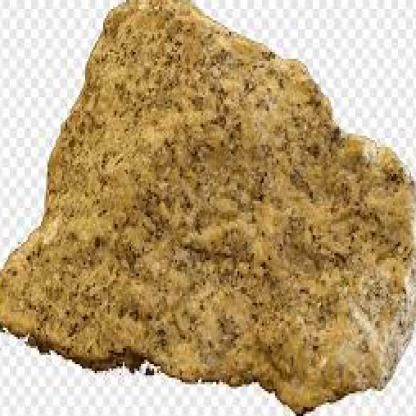Metamorphic_Marble: (1, 0, 415, 411)
